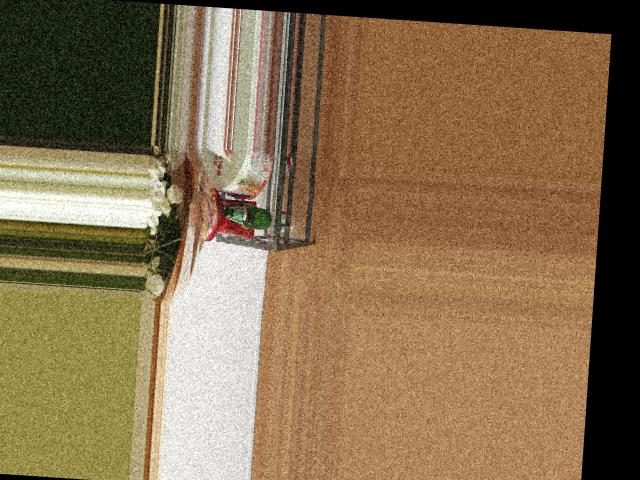beer: (222, 201, 273, 230)
